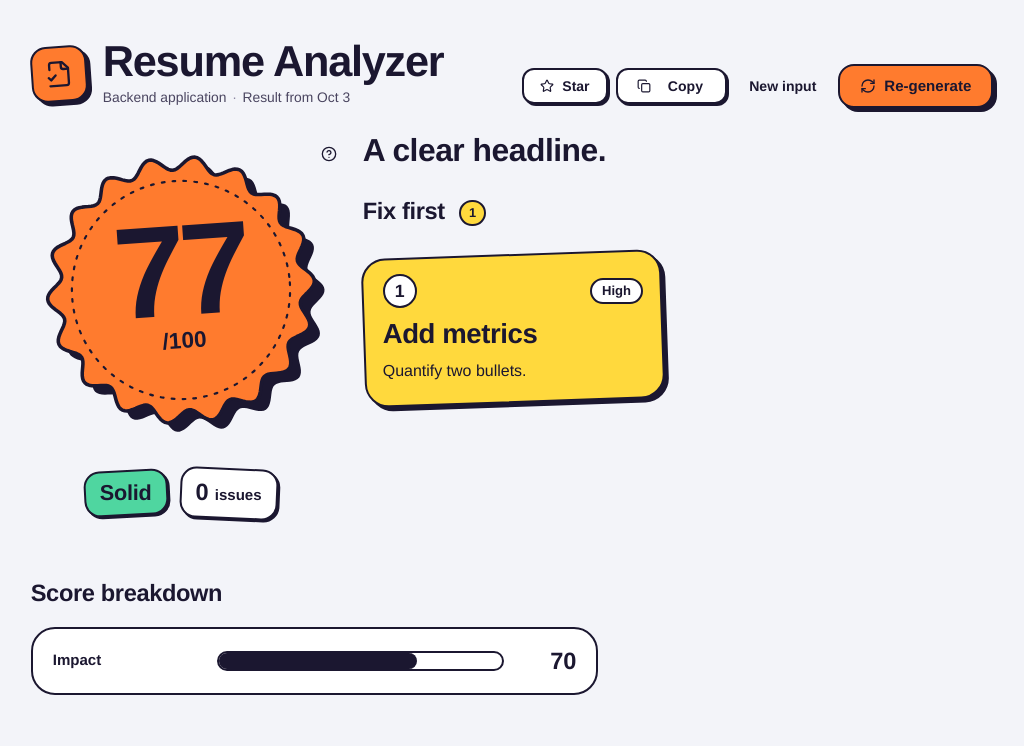
Test case: ToolResultScreen states › says so on the page when copying fails, and tries again
Step 1. Click the button with aria-label "Copy result to clipboard" → (671, 86), box [616, 68, 727, 104]
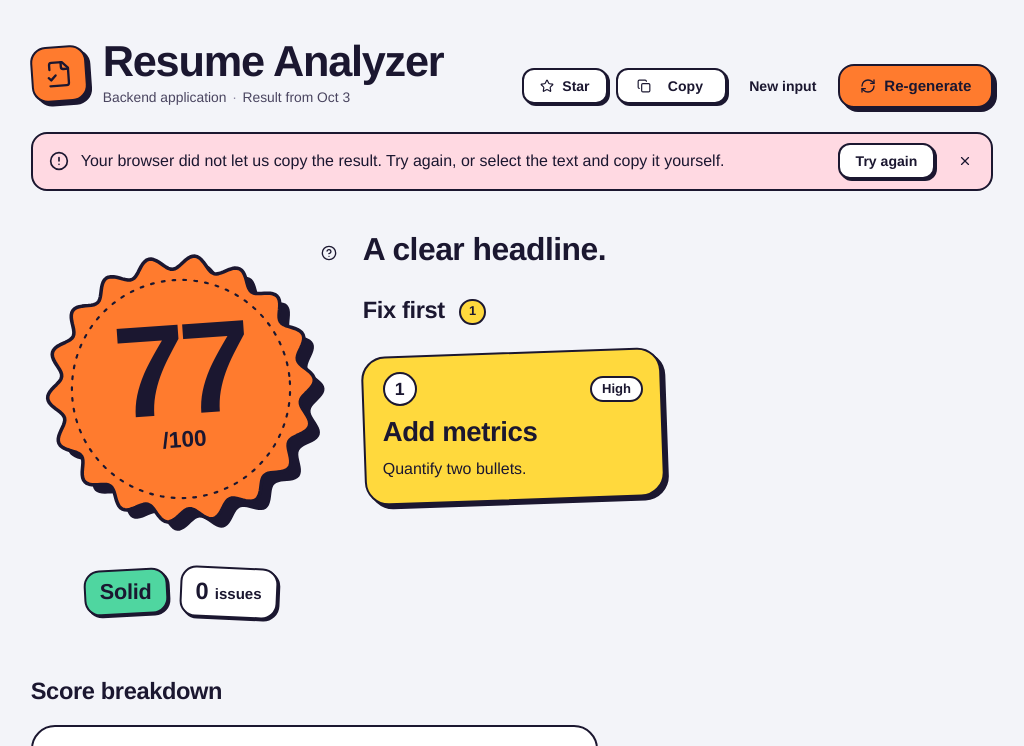
Expected: the message shows "did not let us copy", [81, 151, 724, 171]
Step 2. Click the button "Try again" → (886, 161), box [838, 143, 935, 179]
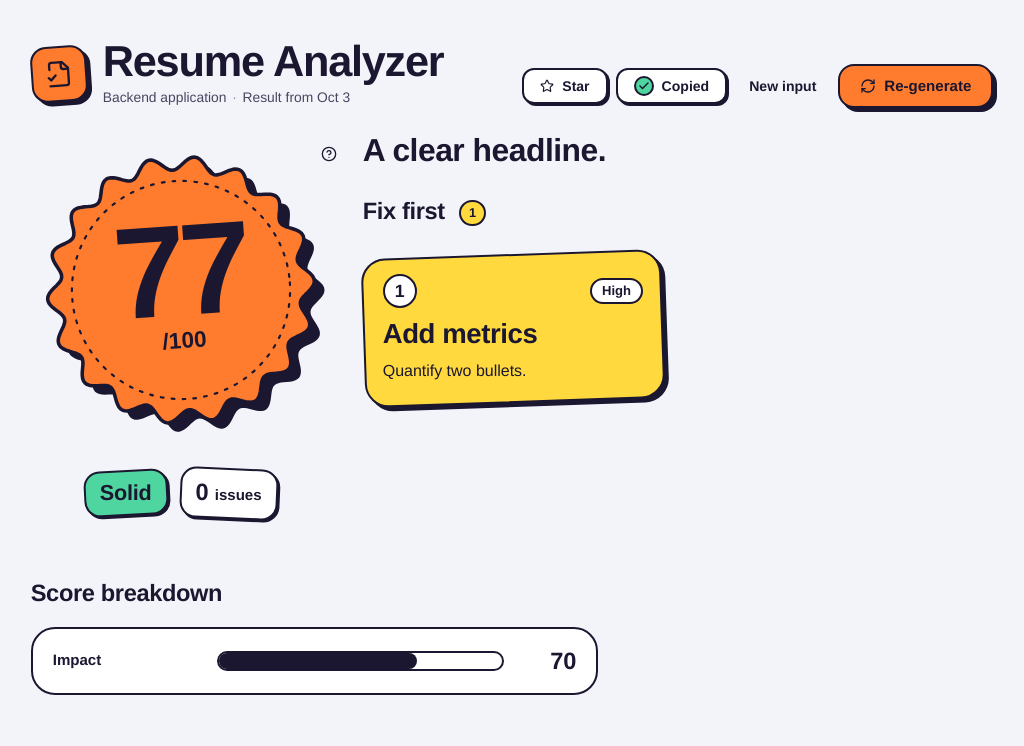
Expected: the message is gone
